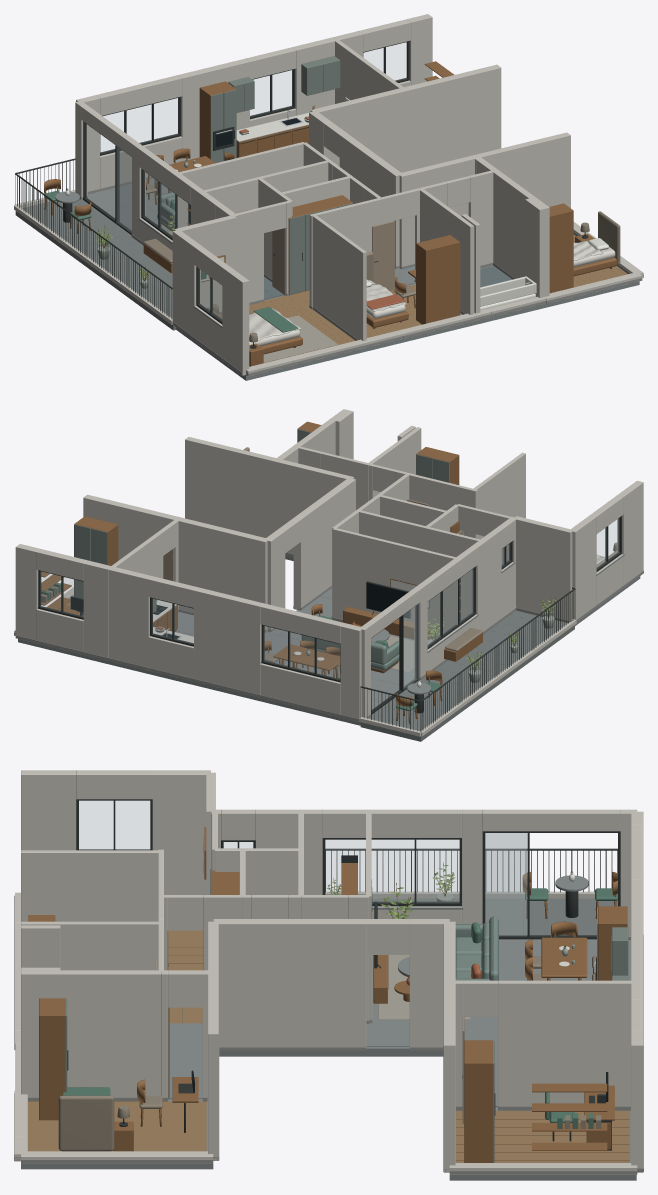
File: apartment-v2.glb
3 renders of one model, top to bottom at view 1: azimuth 30°, elevation 25°; view 2: azimuth 150°, elevation 25°; view 3: azimuth 270°, elevation 25°, orthographic. The views are drawn at different scales.
Parts seen in each view (by area): view 1: FV_Core upper boundary end, FV_Core lower boundary end, FV_Terrace slab, FV_Parents bedroom2 partition end, FV_Bath Mamad partition end, FV_Bedroom 2 wardrobe carcass, FV_Storage north end, FV_Bedroom2 bath partition end, FV_North living facade pier 1, FV_West parents facade end, FV_Storage south end, FV_Core entry boundary end (+59 smaller); view 2: FV_Core lower boundary end, FV_Core upper boundary end, FV_Terrace slab, FV_Storage north end, FV_North living facade pier 1, FV_Parents terrace boundary end, FV_Core entry boundary end, FV_North living facade end, FV_Storage south end, FV_North living facade sill 0, FV_West apartment facade pier 2, FV_North bedroom facade pier 0 (+55 smaller); view 3: FV_Core entry boundary end, FV_Bedroom 3 partition pier 0, FV_Bath Mamad partition end, FV_Parents bedroom2 partition end, FV_West parents facade pier 0, FV_Bedroom 3 floor, FV_Bedroom2 bath partition end, FV_Mamad floor, FV_West parents facade end, FV_Core entry boundary pier 0, FV_Apartment slab, FV_Living kitchen floor (+60 smaller).
Part boxes in pixels (<box>): FV_Core upper boundary end: <box>310,64,501,172</box>; FV_Core lower boundary end: <box>398,132,570,268</box>; FV_Terrace slab: <box>15,199,176,330</box>; FV_Parents bedroom2 partition end: <box>312,214,366,340</box>; FV_Bath Mamad partition end: <box>493,170,549,296</box>; FV_Bedroom 2 wardrobe carcass: <box>416,235,460,324</box>; FV_Storage north end: <box>177,142,303,228</box>; FV_Bedroom2 bath partition end: <box>419,188,474,314</box>; FV_North living facade pier 1: <box>178,58,249,160</box>; FV_West parents facade end: <box>222,266,249,375</box>; FV_Storage south end: <box>204,160,328,213</box>; FV_Core entry boundary end: <box>339,133,400,268</box>; FV_Core lower boundary end: <box>185,437,354,557</box>; FV_Core upper boundary end: <box>83,494,267,632</box>; FV_Terrace slab: <box>360,610,574,741</box>; FV_Storage north end: <box>332,528,457,639</box>; FV_North living facade pier 1: <box>194,587,263,697</box>; FV_Parents terrace boundary end: <box>513,516,573,622</box>; FV_Core entry boundary end: <box>293,478,355,610</box>; FV_North living facade end: <box>108,566,152,670</box>; FV_Storage south end: <box>359,510,480,620</box>; FV_North living facade sill 0: <box>260,663,340,717</box>; FV_West apartment facade pier 2: <box>471,528,501,631</box>; FV_North bedroom facade pier 0: <box>83,560,110,660</box>; FV_Core entry boundary end: <box>213,919,366,1046</box>; FV_Bedroom 3 partition pier 0: <box>498,980,637,1110</box>; FV_Bath Mamad partition end: <box>21,970,160,1097</box>; FV_Parents bedroom2 partition end: <box>21,850,160,921</box>; FV_West parents facade pier 0: <box>152,770,210,894</box>; FV_Bedroom 3 floor: <box>456,1111,629,1162</box>; FV_Bedroom2 bath partition end: <box>21,921,160,970</box>; FV_Mamad floor: <box>28,1101,206,1151</box>; FV_West parents facade end: <box>21,770,76,850</box>; FV_Core entry boundary pier 0: <box>409,919,449,1046</box>; FV_Apartment slab: <box>21,941,636,1180</box>; FV_Living kitchen floor: <box>372,939,630,1106</box>.
Size of the model in its own units: 13.38 by 3.03 by 12.79.
